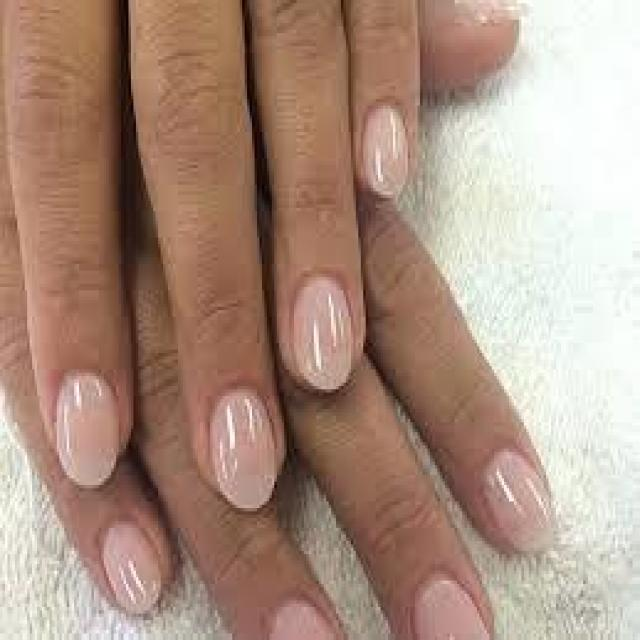Nail: (209, 388, 276, 511), (478, 450, 555, 553), (56, 370, 119, 488), (295, 276, 352, 391), (102, 523, 162, 615), (416, 580, 490, 640), (363, 106, 408, 198), (267, 599, 341, 640), (459, 0, 529, 20)
